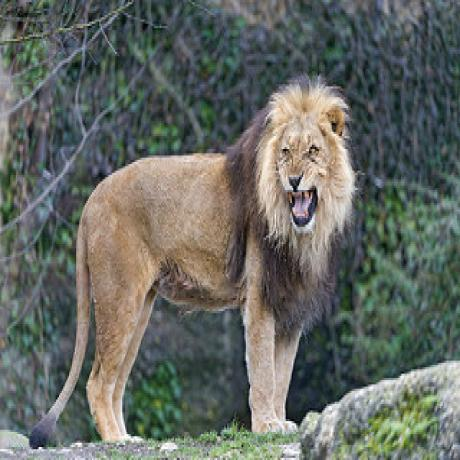Lion: (43, 68, 352, 447)
